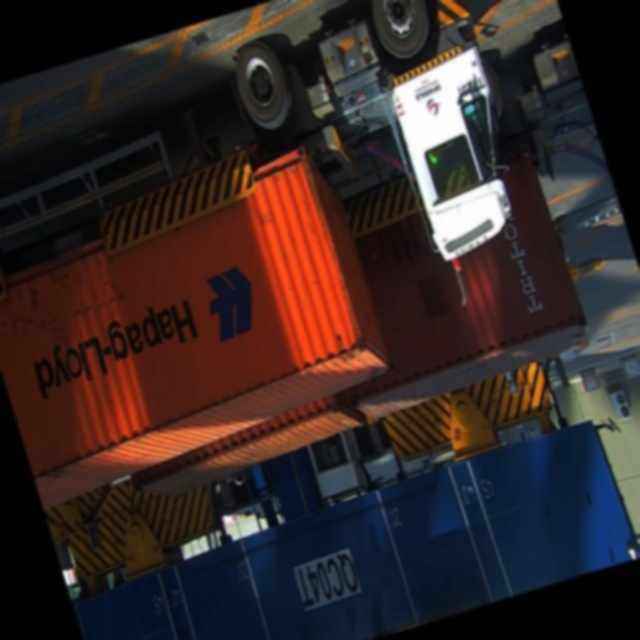Dent: (1, 282, 133, 343)
